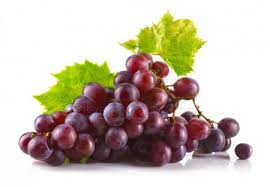Red Grapes: (14, 55, 255, 161)
